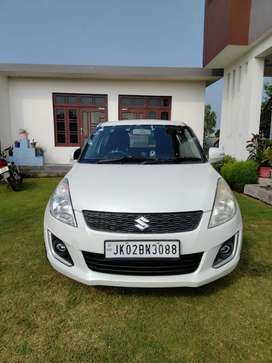JK02BN3088: (105, 242, 179, 257)
